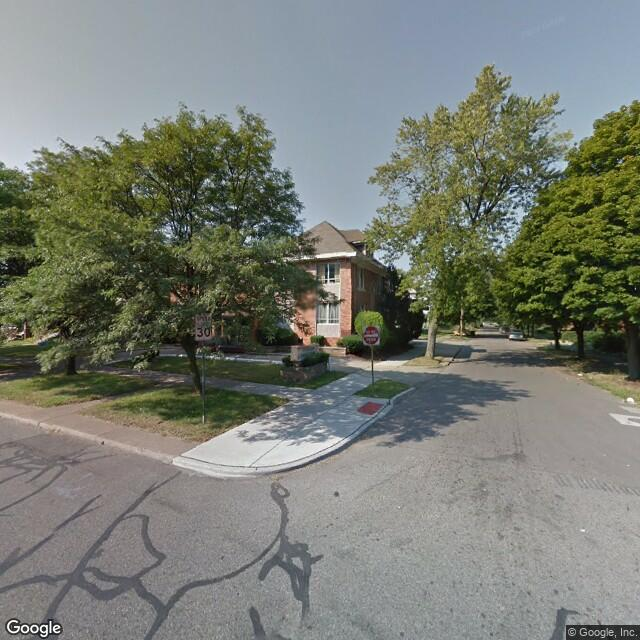litter: (570, 368, 589, 380), (622, 392, 636, 406)
